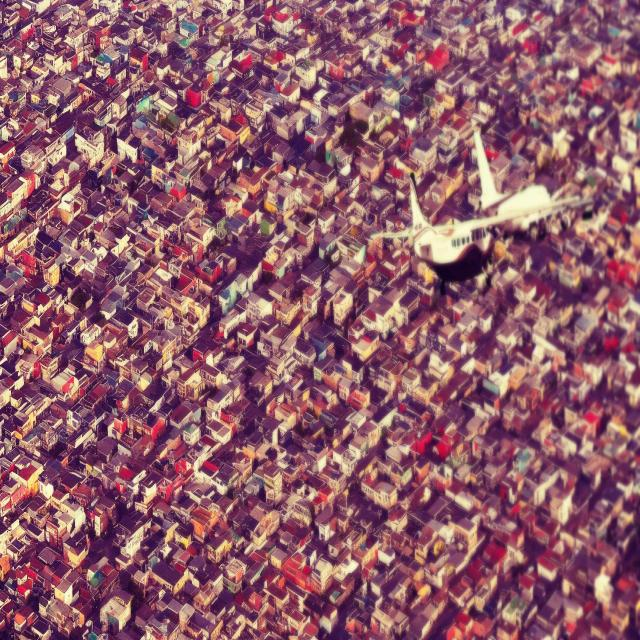airplane: (371, 130, 580, 282)
